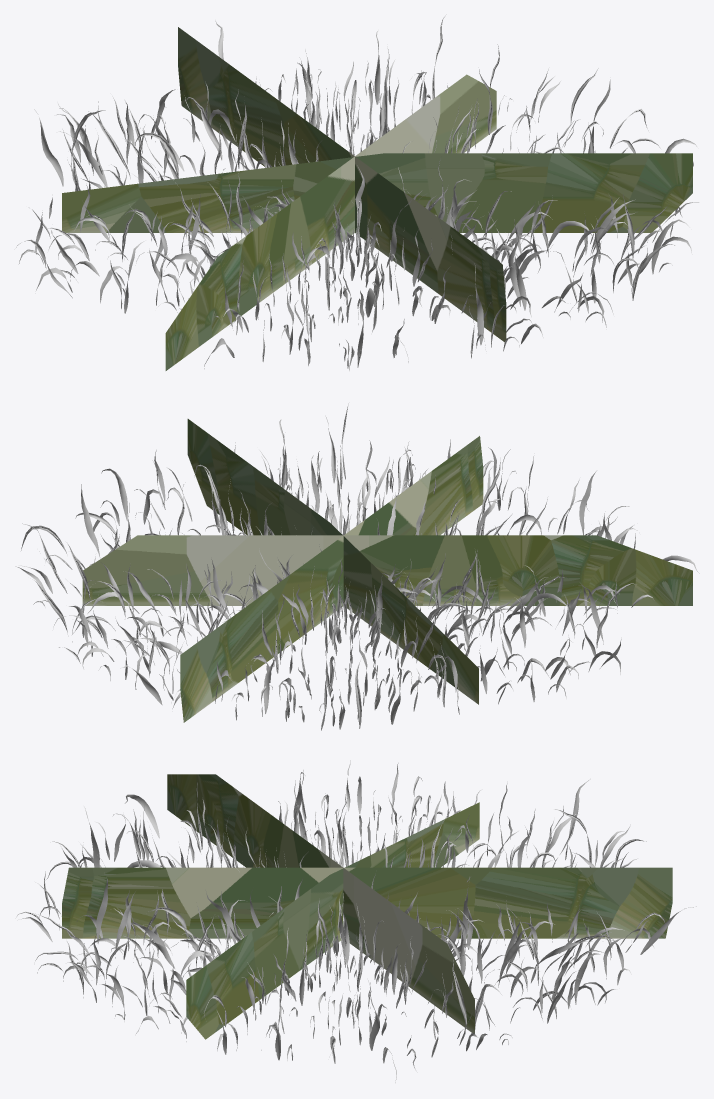
Rendered from PW_Small_Grass.fbx.
3 renders of one model, top to bottom at view 1: azimuth 30°, elevation 25°; view 2: azimuth 150°, elevation 25°; view 3: azimuth 270°, elevation 25°, orthographic. The views are drawn at different scales.
Parts seen in each view (by area): view 1: Billboard, LOD0; view 2: Billboard, LOD0; view 3: Billboard, LOD0.
Part boxes in pixels (bbox=[...]): Billboard: bbox=[62, 27, 692, 370]; LOD0: bbox=[16, 17, 698, 370]; Billboard: bbox=[82, 419, 692, 722]; LOD0: bbox=[15, 403, 699, 730]; Billboard: bbox=[62, 774, 672, 1039]; LOD0: bbox=[17, 760, 696, 1082].
Size of what is drawn, in the model's own units: 22.62 by 3.4 by 22.86.
